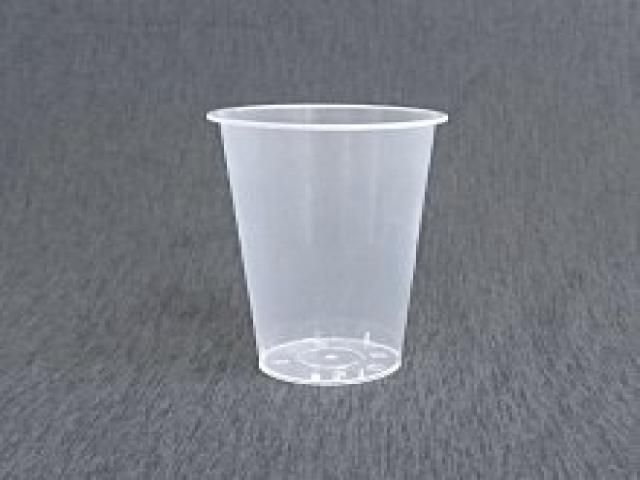cup: (208, 105, 448, 385)
